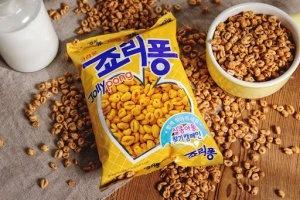snack: (66, 11, 224, 193)
